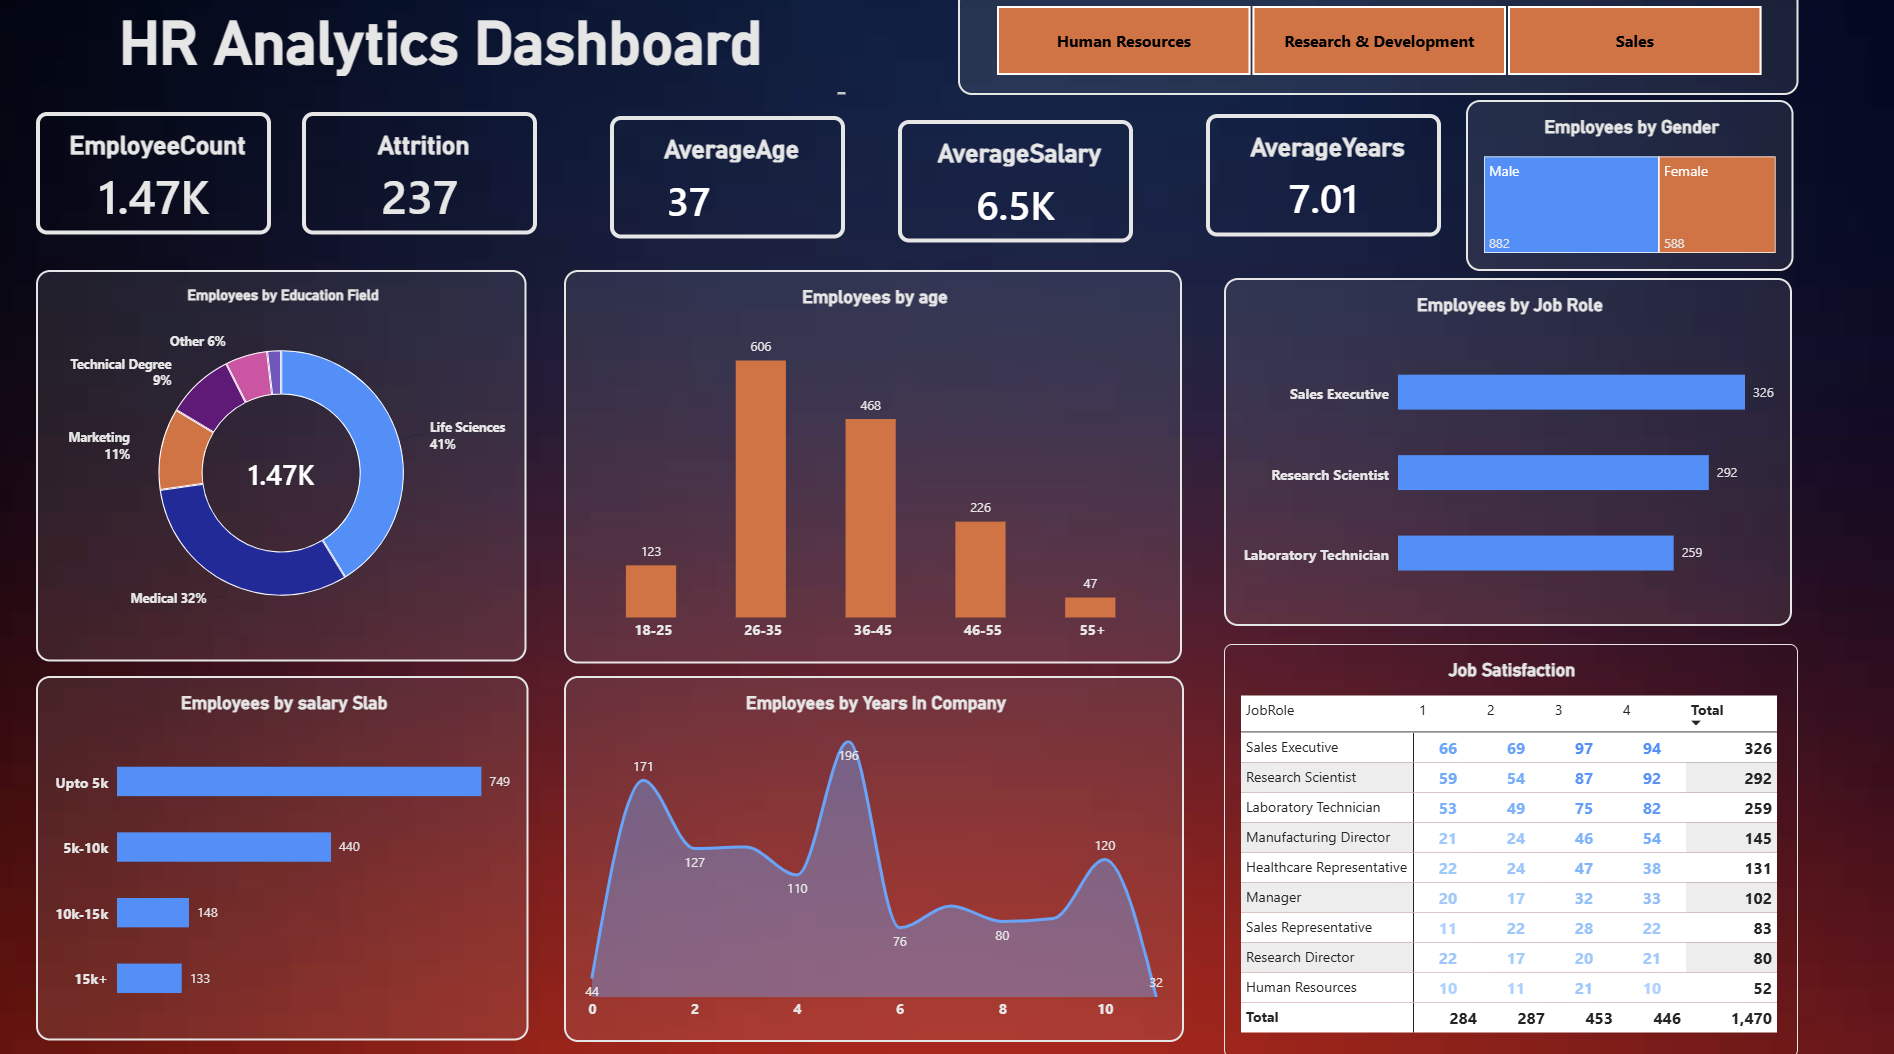

This screenshot's page, from the dashboard's own definition file:
{"tool":"powerbi","page":{"name":"Page 1","canvas":[1920,1080],"ordinal":0},"visuals":[{"type":"kpi","title":"EmployeeCount","fields":{"Indicator":["CountNonNull(HR_Analytics.EmployeeCount)"],"TrendLine":["HR_Analytics.EmployeeCount"]},"box":[47.4,123.6,235.2,122.4],"z":0},{"type":"kpi","title":"Attrition","fields":{"Indicator":["CountNonNull(HR_Analytics.AttritionCount)"],"TrendLine":["HR_Analytics.AttritionCount"]},"box":[313.1,123.6,235.2,122.4],"z":1000},{"type":"cardVisual","title":"AverageAge","fields":{"Data":["Avg(HR_Analytics.Age)"]},"box":[622.1,127.7,235.2,122.4],"z":2000},{"type":"cardVisual","title":"AverageSalary","fields":{"Data":["Avg(HR_Analytics.MonthlyIncome)"]},"box":[910.6,131.8,235.2,122.4],"z":3000},{"type":"cardVisual","title":"AverageYears","fields":{"Data":["Avg(HR_Analytics.YearsAtCompany)"]},"box":[1217.5,125.7,235.2,122.4],"z":4000},{"type":"donutChart","title":"Employees by Education Field","fields":{"Category":["HR_Analytics.EducationField"],"Y":["CountNonNull(HR_Analytics.AttritionCount)"]},"box":[47.4,282.2,490.3,391.4],"z":5000},{"type":"columnChart","title":"Employees by age","fields":{"Category":["HR_Analytics.AgeGroup"],"Y":["CountNonNull(HR_Analytics.AttritionCount)"]},"box":[576.8,282.2,618,393.5],"z":6000},{"type":"pivotTable","title":"Job Satisfaction","fields":{"Columns":["HR_Analytics.EnvironmentSatisfaction"],"Rows":["HR_Analytics.JobRole"],"Values":["CountNonNull(HR_Analytics.AttritionCount)"]},"box":[1236,656,574,414],"z":7000},{"type":"barChart","title":"Employees by salary Slab","fields":{"Category":["HR_Analytics.SalarySlab"],"Y":["CountNonNull(HR_Analytics.AttritionCount)"]},"box":[47.4,688.1,492.4,364.6],"z":8000},{"type":"barChart","title":"Employees by Job Role","fields":{"Category":["HR_Analytics.JobRole"],"Y":["CountNonNull(HR_Analytics.AttritionCount)"]},"box":[1236,290,568,348],"z":9000},{"type":"areaChart","title":"Employees by Years In Company","fields":{"Category":["HR_Analytics.YearsAtCompany"],"Y":["CountNonNull(HR_Analytics.AttritionCount)"]},"box":[576,688,620,366],"z":10000},{"type":"treemap","title":"Employees by Gender","fields":{"Group":["HR_Analytics.Gender"],"Values":["CountNonNull(HR_Analytics.AttritionCount)"]},"box":[1477.1,111.2,327.6,171],"z":11000},{"type":"slicer","fields":{"Values":["HR_Analytics.Department"]},"box":[970.3,0,840.5,107.1],"z":12000},{"type":"textbox","title":"HR Analytics Dashboard","box":[47.4,20.6,809.6,86.5],"z":13000}]}

Visuals, with their boxes in screenshot pixels (x1, y1, x2, y2), scaled from the page's 1920x1080 canvas onto the 1894x1054 screenshot:
"EmployeeCount" kpi: region(47, 121, 279, 240)
"Attrition" kpi: region(309, 121, 541, 240)
"AverageAge" cardVisual: region(614, 125, 846, 244)
"AverageSalary" cardVisual: region(898, 129, 1130, 248)
"AverageYears" cardVisual: region(1201, 123, 1433, 242)
"Employees by Education Field" donutChart: region(47, 275, 530, 657)
"Employees by age" columnChart: region(569, 275, 1179, 659)
"Job Satisfaction" pivotTable: region(1219, 640, 1785, 1044)
"Employees by salary Slab" barChart: region(47, 672, 532, 1027)
"Employees by Job Role" barChart: region(1219, 283, 1780, 623)
"Employees by Years In Company" areaChart: region(568, 671, 1180, 1029)
"Employees by Gender" treemap: region(1457, 109, 1780, 275)
slicer - HR_Analytics.Department: region(957, 0, 1786, 105)
"HR Analytics Dashboard" textbox: region(47, 20, 845, 105)
